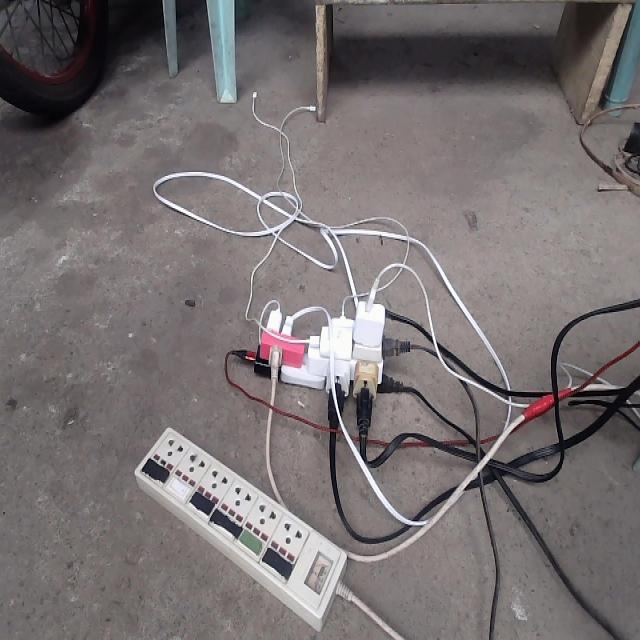-: (233, 272, 415, 437)
